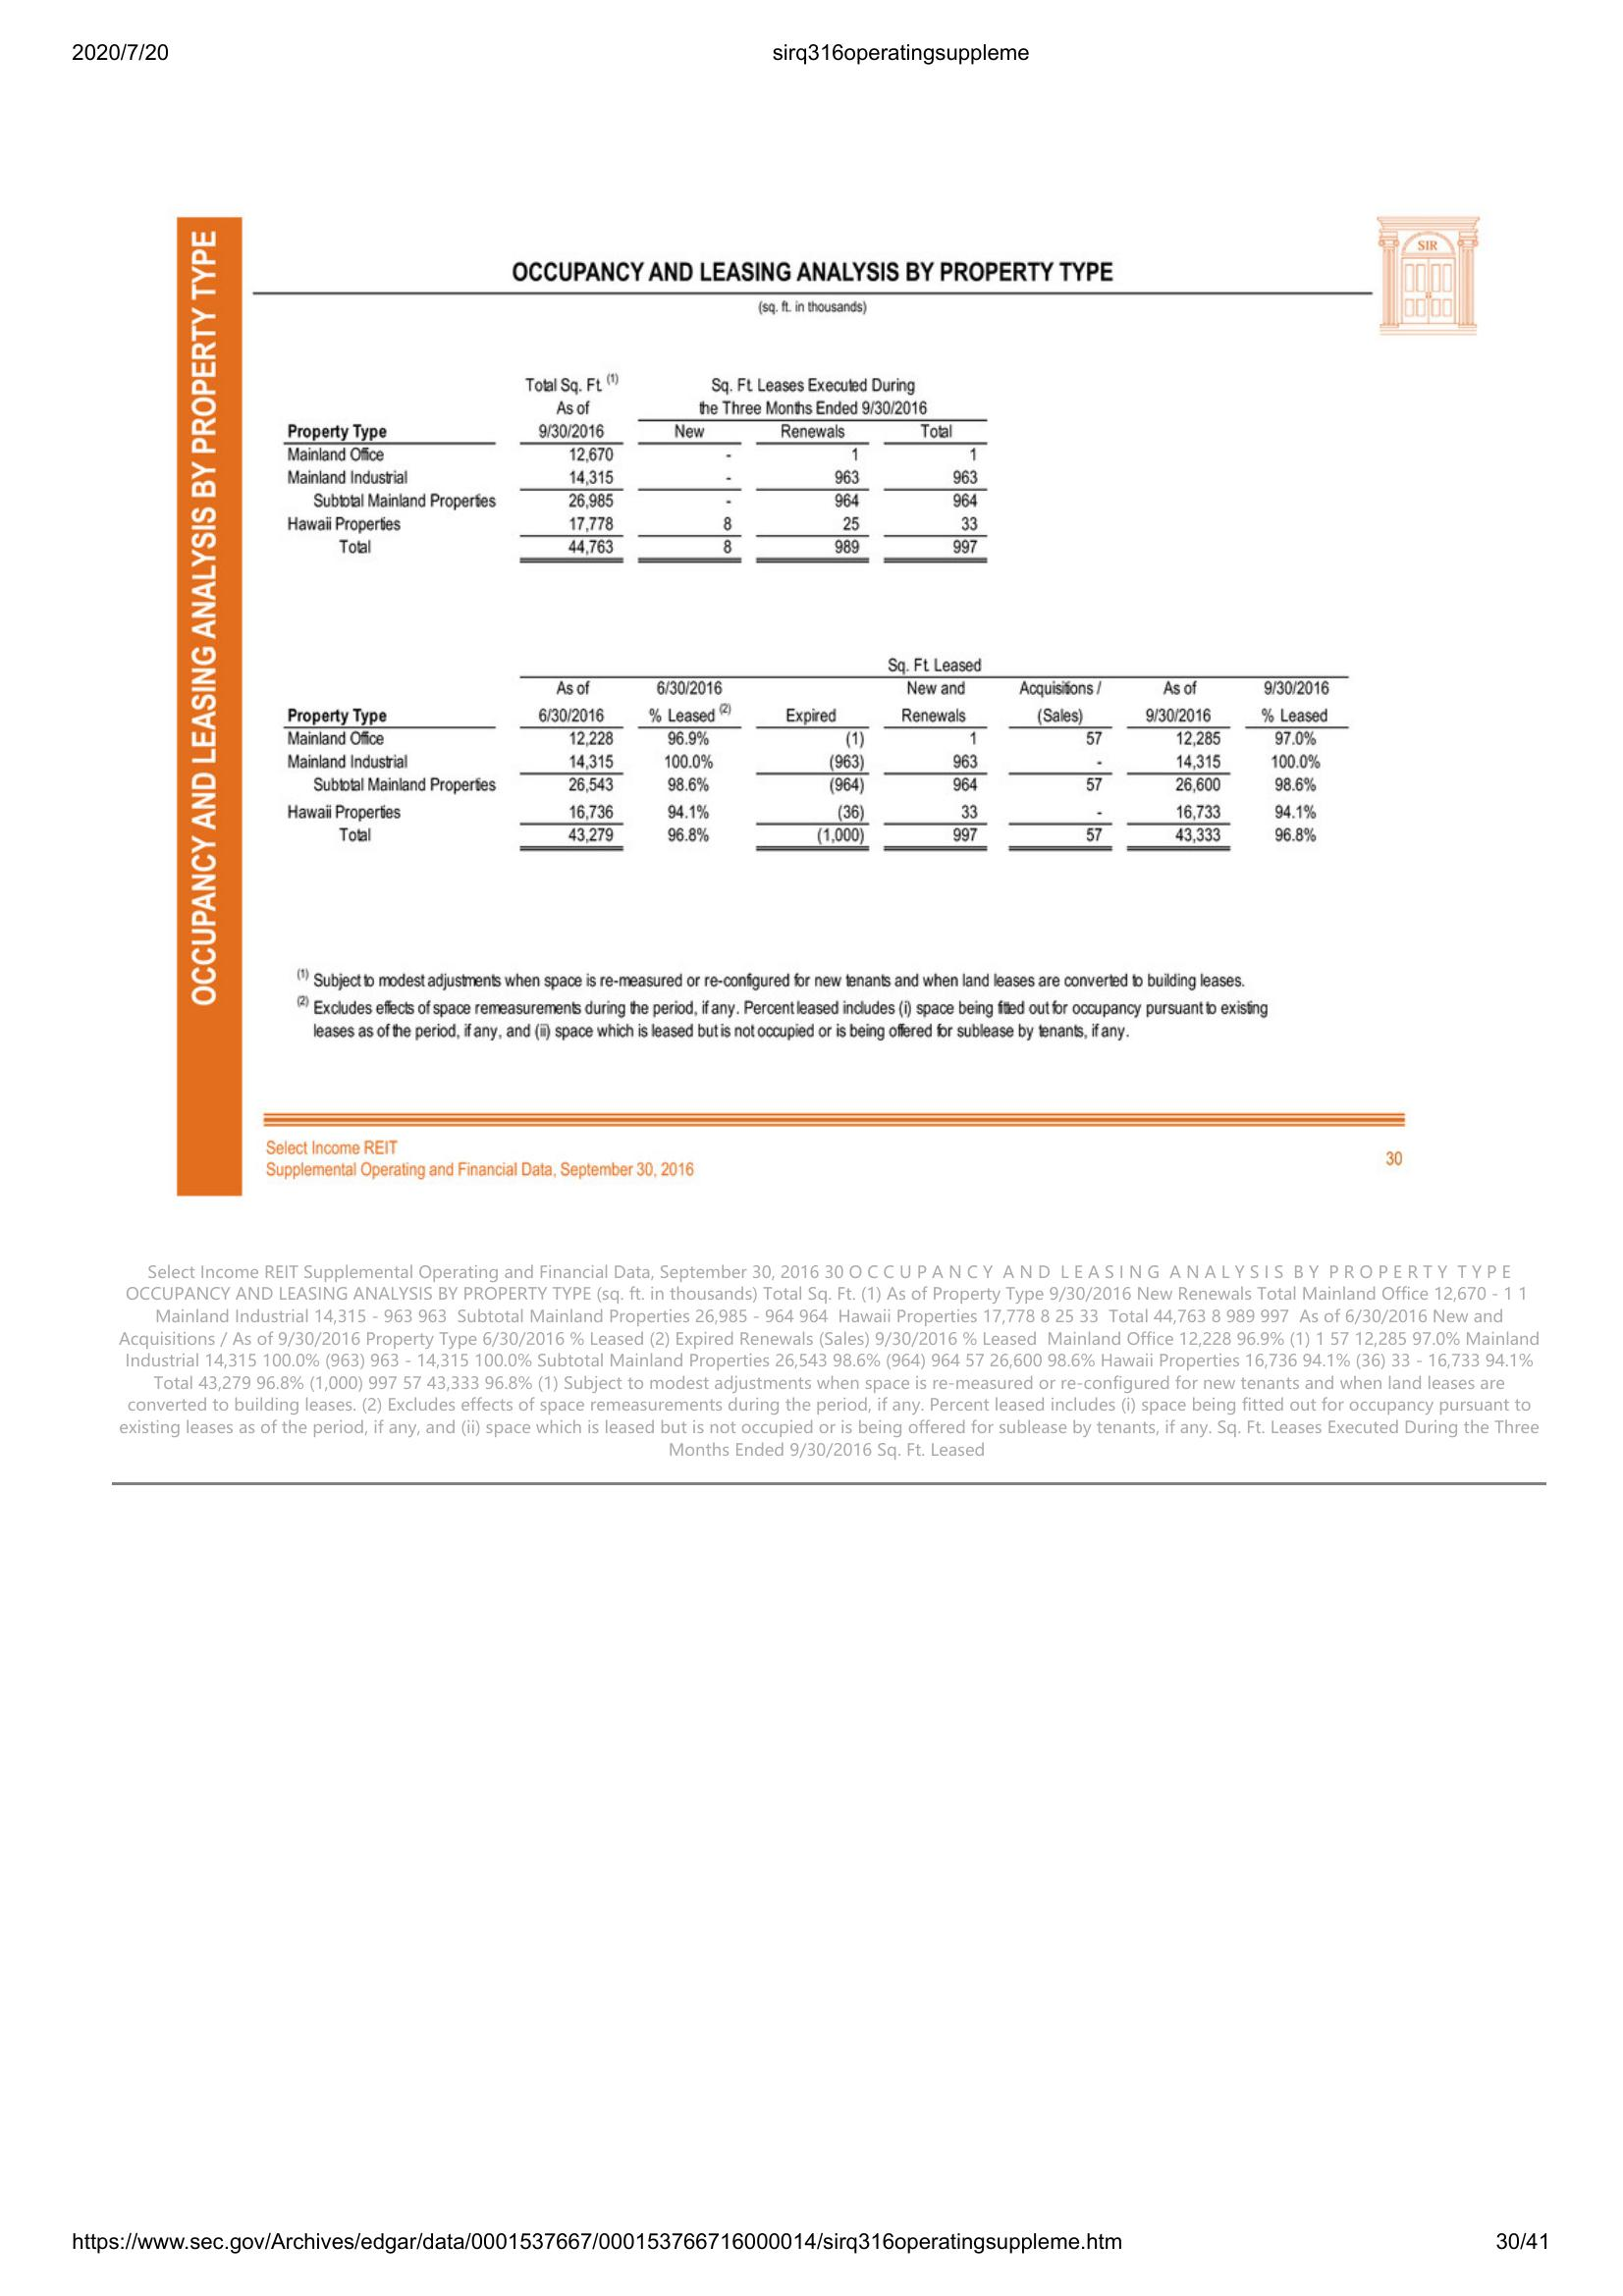table: (278, 655, 1360, 867), (260, 367, 991, 572)
